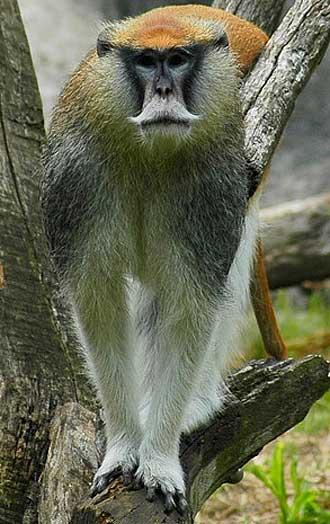monkey: (45, 7, 253, 497)
